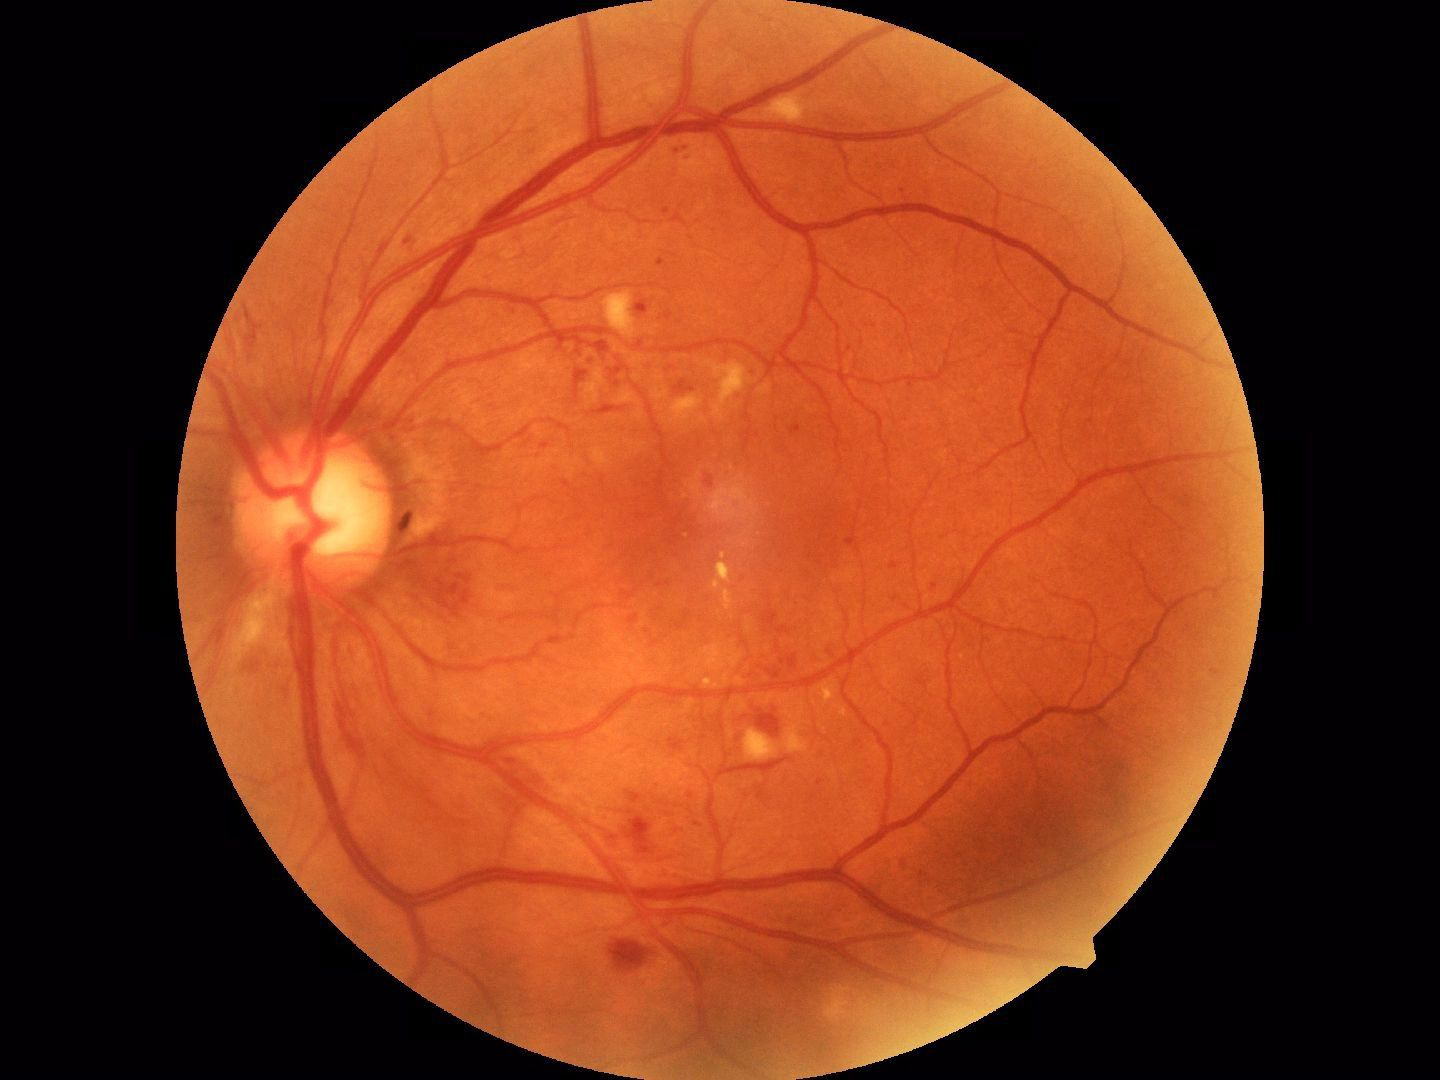Arterioles: (827, 182, 1112, 374), (901, 572, 1158, 761)
Microaneurysms: (573, 317, 669, 408), (715, 694, 810, 774), (596, 929, 654, 979)
Optic-Disc: (235, 422, 396, 589)
Venules: (353, 170, 554, 372), (272, 648, 442, 867)
